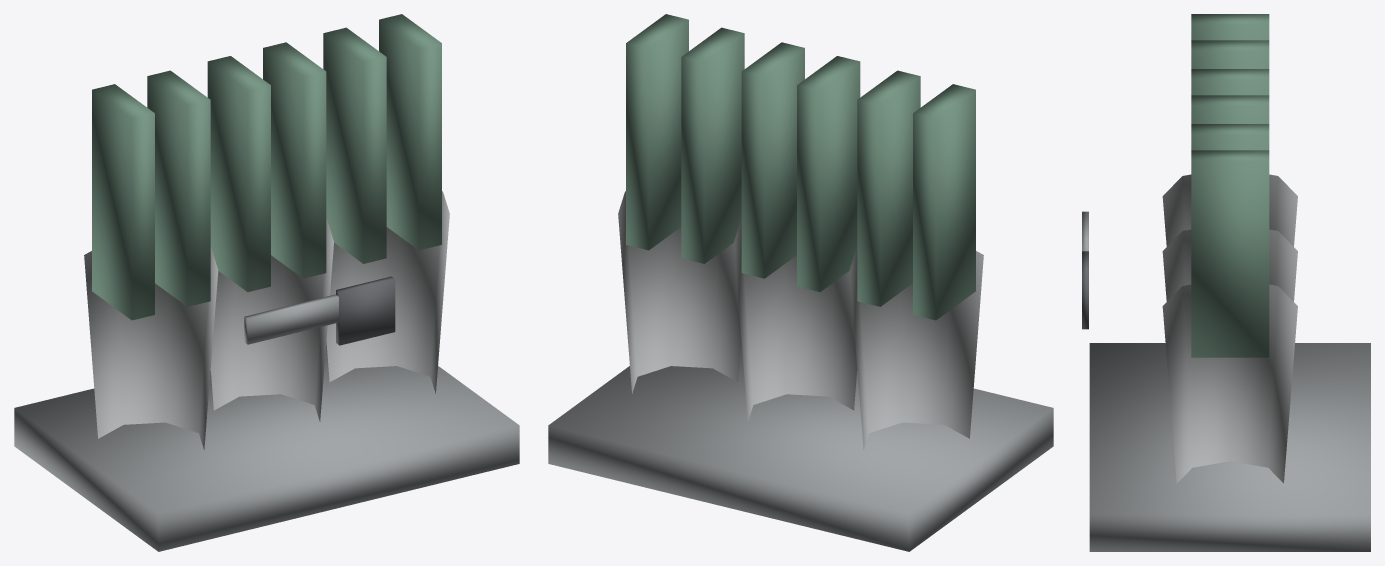
File: standing_floral_display__weathered.glb
The picture shows the model from 3 angles, left to right: view 1: azimuth 30°, elevation 25°; view 2: azimuth 150°, elevation 25°; view 3: azimuth 270°, elevation 25°; orthographic projection. The views are drawn at different scales.
Parts seen in each view (by area): view 1: world; view 2: world; view 3: world.
Boxes of the visible parts, x1,y1,x2,y2 form: world: [14, 14, 519, 551]; world: [548, 14, 1053, 551]; world: [1082, 14, 1370, 551].
Size of the model in its own units: 0.78 by 0.8019 by 0.5548.
